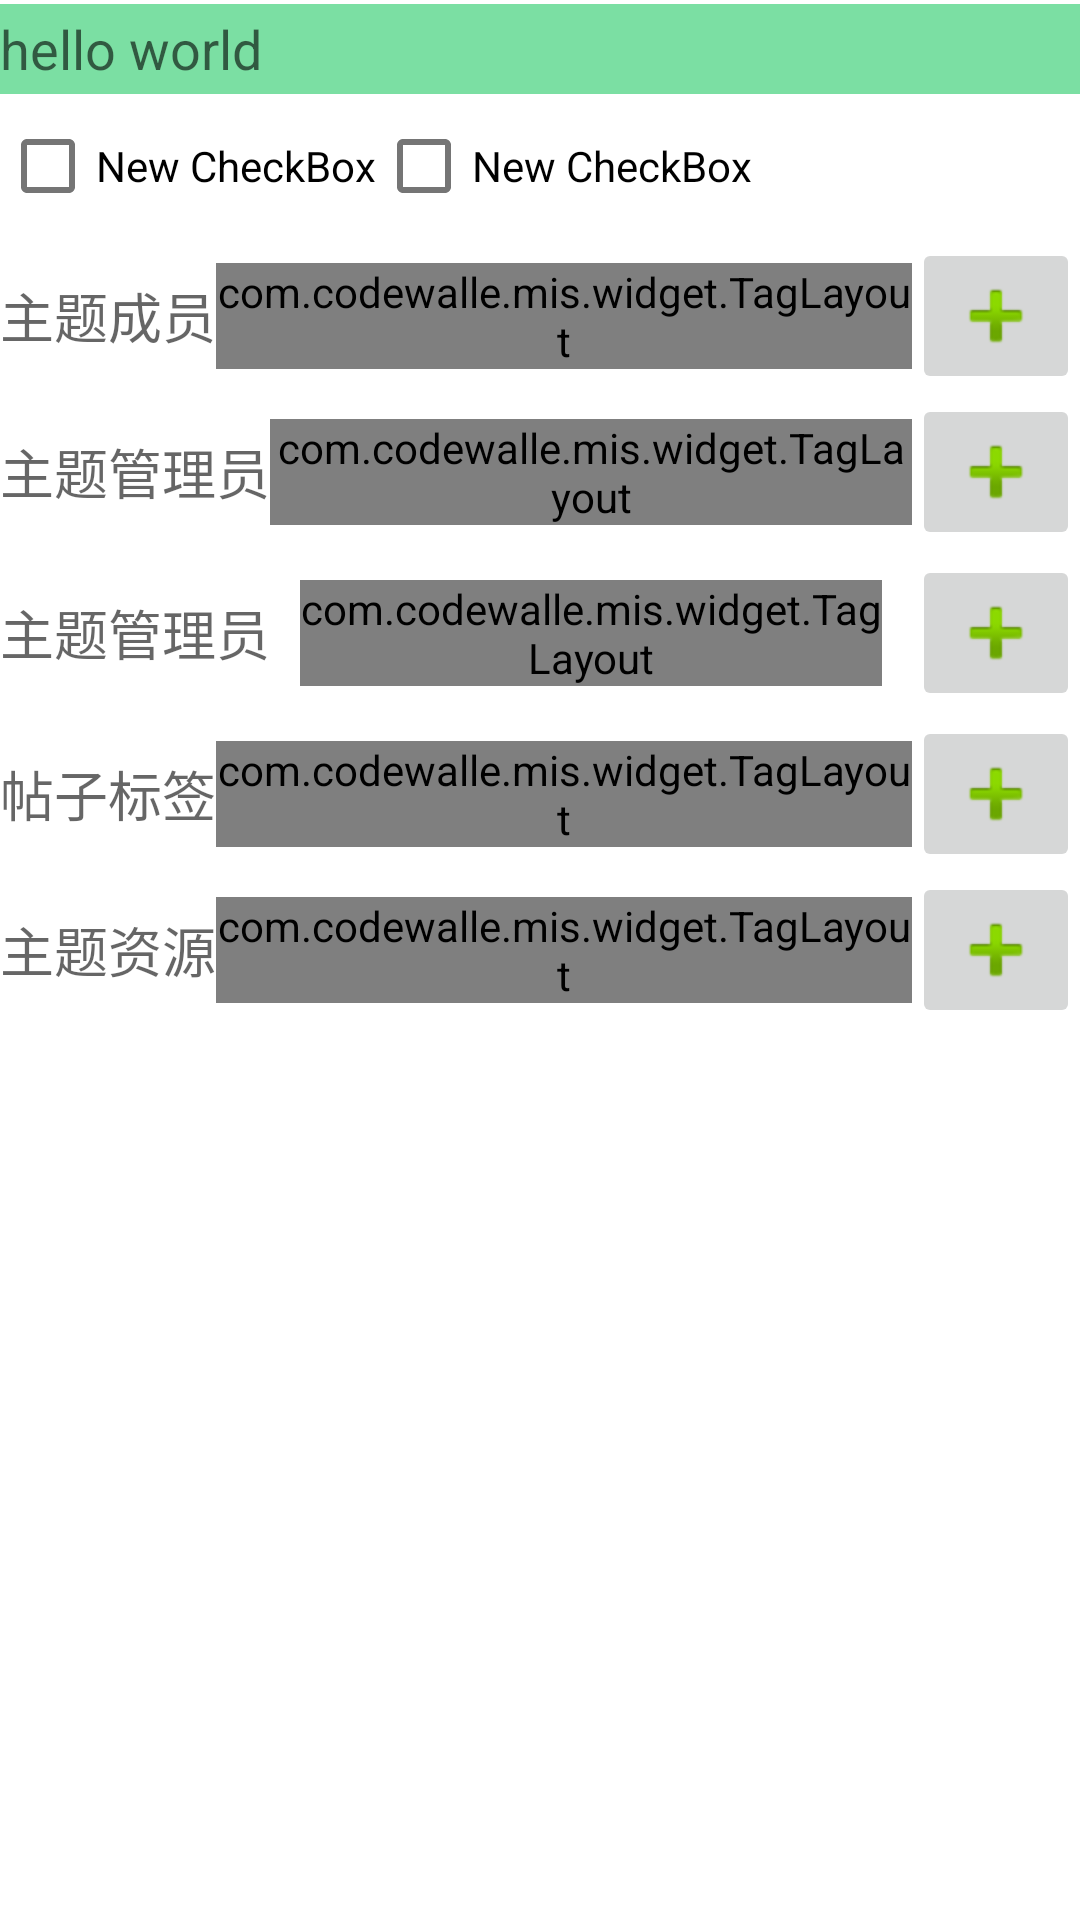

Where to tap for icons on this 1080px×1920px app screen, as (x=x, y=y):
add: (x=996, y=316), (x=996, y=472), (x=996, y=633), (x=996, y=794), (x=996, y=950)
